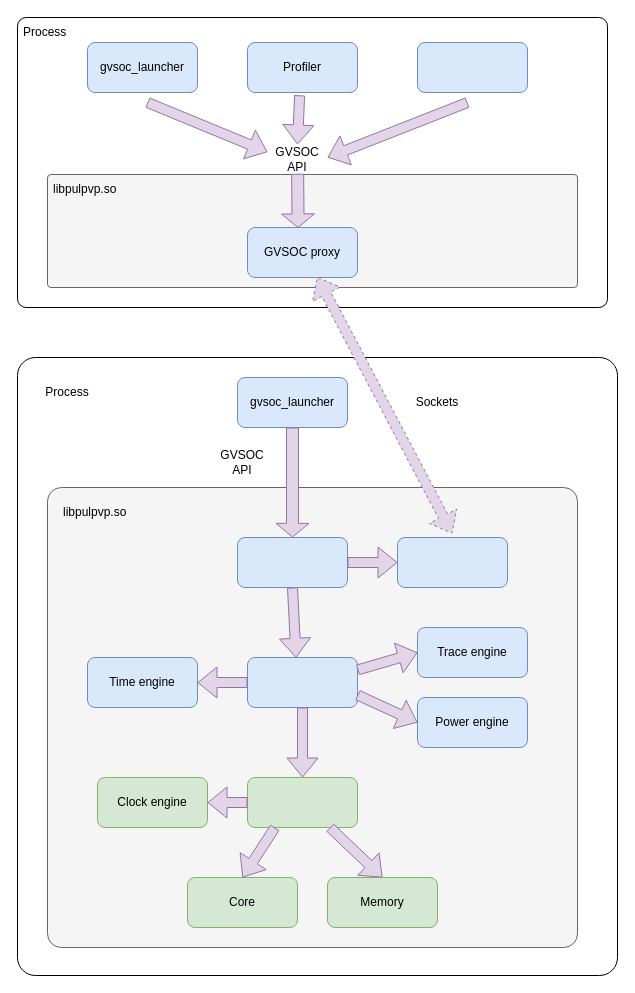
The diagram is 635 pixels wide and 993 high, and some of its shapes have lost their labels. The centre of each missing label's shape, as x and y in pixels:
Chip: [302,802]
External simulator: [472,67]
Launcher: [292,562]
Proxy server: [452,562]
Top: [302,682]
